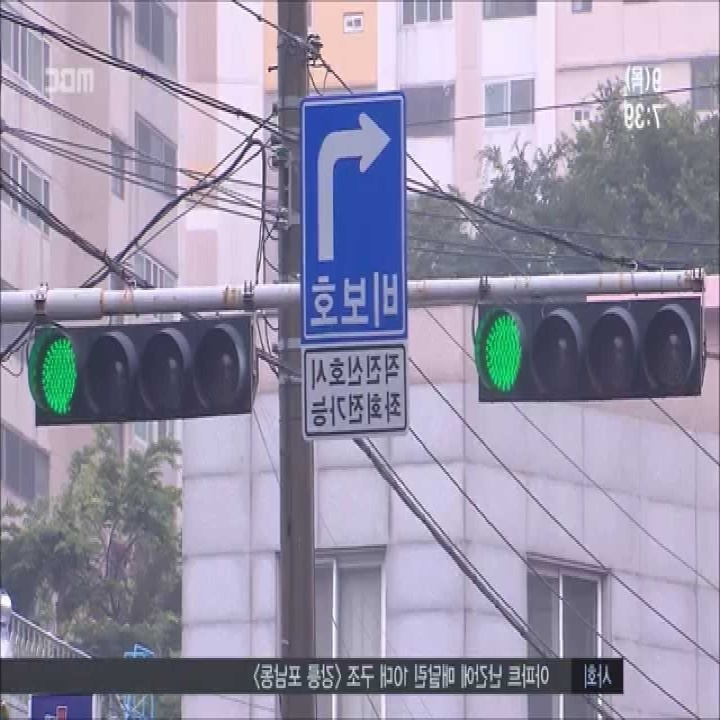right: (311, 109, 397, 267)
